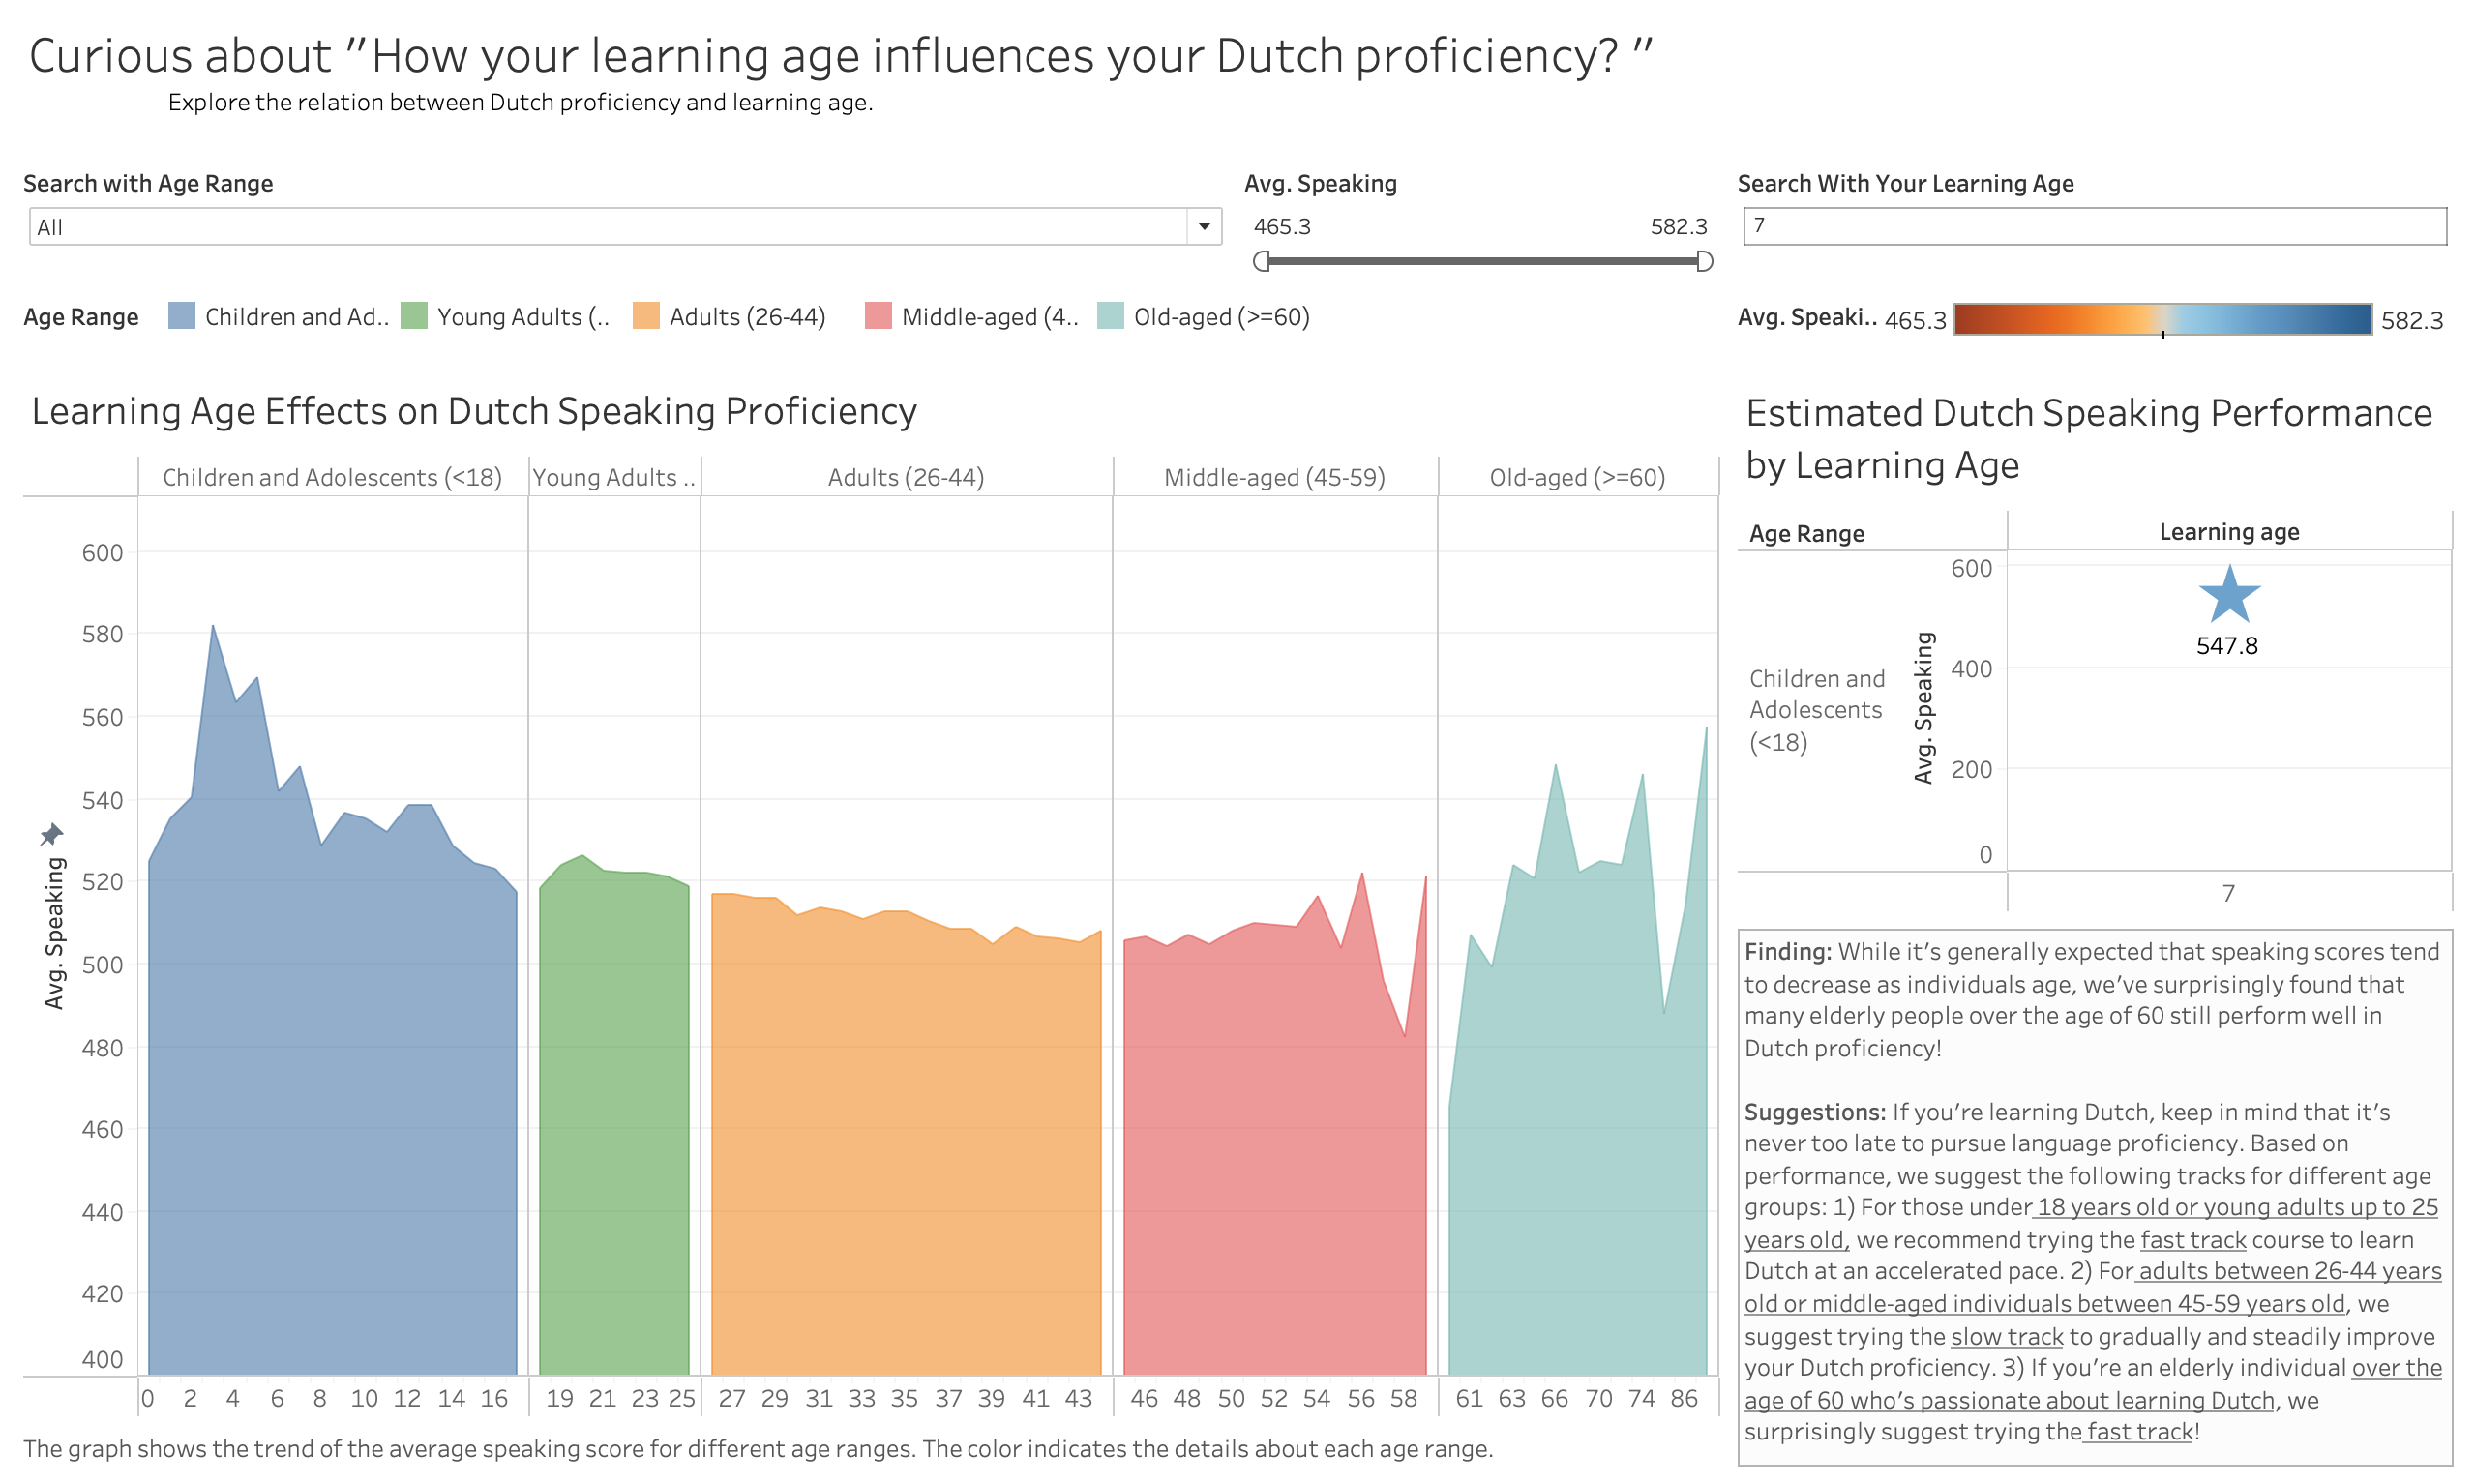

This screenshot's page, from the dashboard's own definition file:
{"tool":"tableau","page":{"name":"Dashboard 4","canvas":[1000,1000],"units":"permille","ordinal":3},"visuals":[{"type":"text","box":[6.2,10.4,987.5,96]},{"type":"parameter","param":"[Parameters].[Age-Range1 (copy)_2114158585074184193 1]","box":[6.2,106.3,492.7,87.5]},{"type":"filter","title":"Age range search","param":"[federated.0nq162a0azgo201e57eep1p0yfa0 (copy 2)].[avg:Speaking:qk]","box":[498.9,106.3,199.4,87.5]},{"type":"parameter","param":"[Parameters].[Parameter 1]","box":[698.3,106.3,295.4,86.8]},{"type":"legend","title":"Search age","param":"[federated.0nq162a0azgo201e57eep1p0yfa0].[avg:Speaking:qk]","box":[698.3,193.2,295.4,54.7]},{"type":"legend","title":"Age range search","param":"[federated.0nq162a0azgo201e57eep1p0yfa0 (copy 2)].[none:Age Range:nk]","box":[6.2,193.8,692.1,53.3]},{"type":"worksheet","title":"Age range search","mark":"Area","rows":["Speaking"],"cols":["Age Range","AaA"],"box":[6.2,247.2,692.1,742.5]},{"type":"worksheet","title":"Search age","mark":"Shape","rows":["Age Range","Speaking"],"cols":["AaA"],"box":[698.3,247.8,295.4,370.6]},{"type":"text","box":[698.3,618.4,295.4,371.2]}]}

Visuals, with their boxes on the dashboard's canvas, which has no fixed pixel size, in thousandths of its width and height (x1, y1, x2, y2). These are canvas units, not pixel positions in the 2475x1484 screenshot, which may show the page scaled, cropped or inside an application window:
text: box(6, 10, 994, 106)
parameter: box(6, 106, 499, 194)
"Age range search" filter: box(499, 106, 698, 194)
parameter: box(698, 106, 994, 193)
"Search age" legend: box(698, 193, 994, 248)
"Age range search" legend: box(6, 194, 698, 247)
"Age range search" worksheet (Area marks): box(6, 247, 698, 990)
"Search age" worksheet (Shape marks): box(698, 248, 994, 618)
text: box(698, 618, 994, 990)
